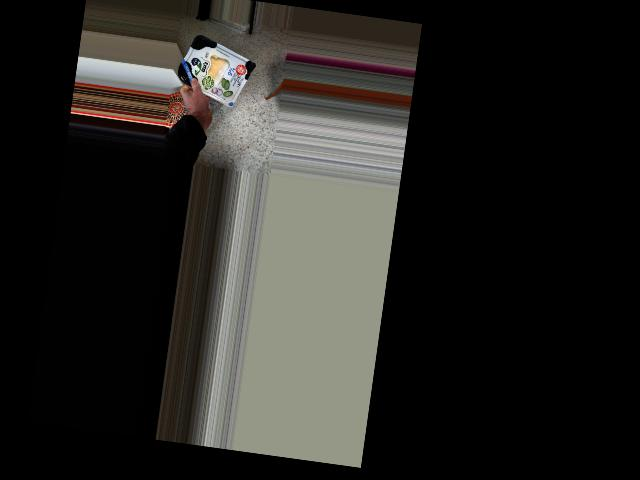cheese: (183, 46, 249, 102)
